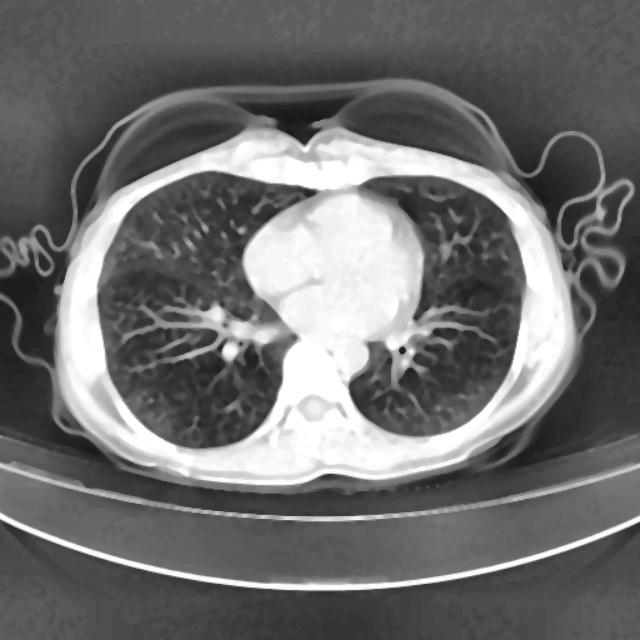covid: (32, 82, 606, 495)
